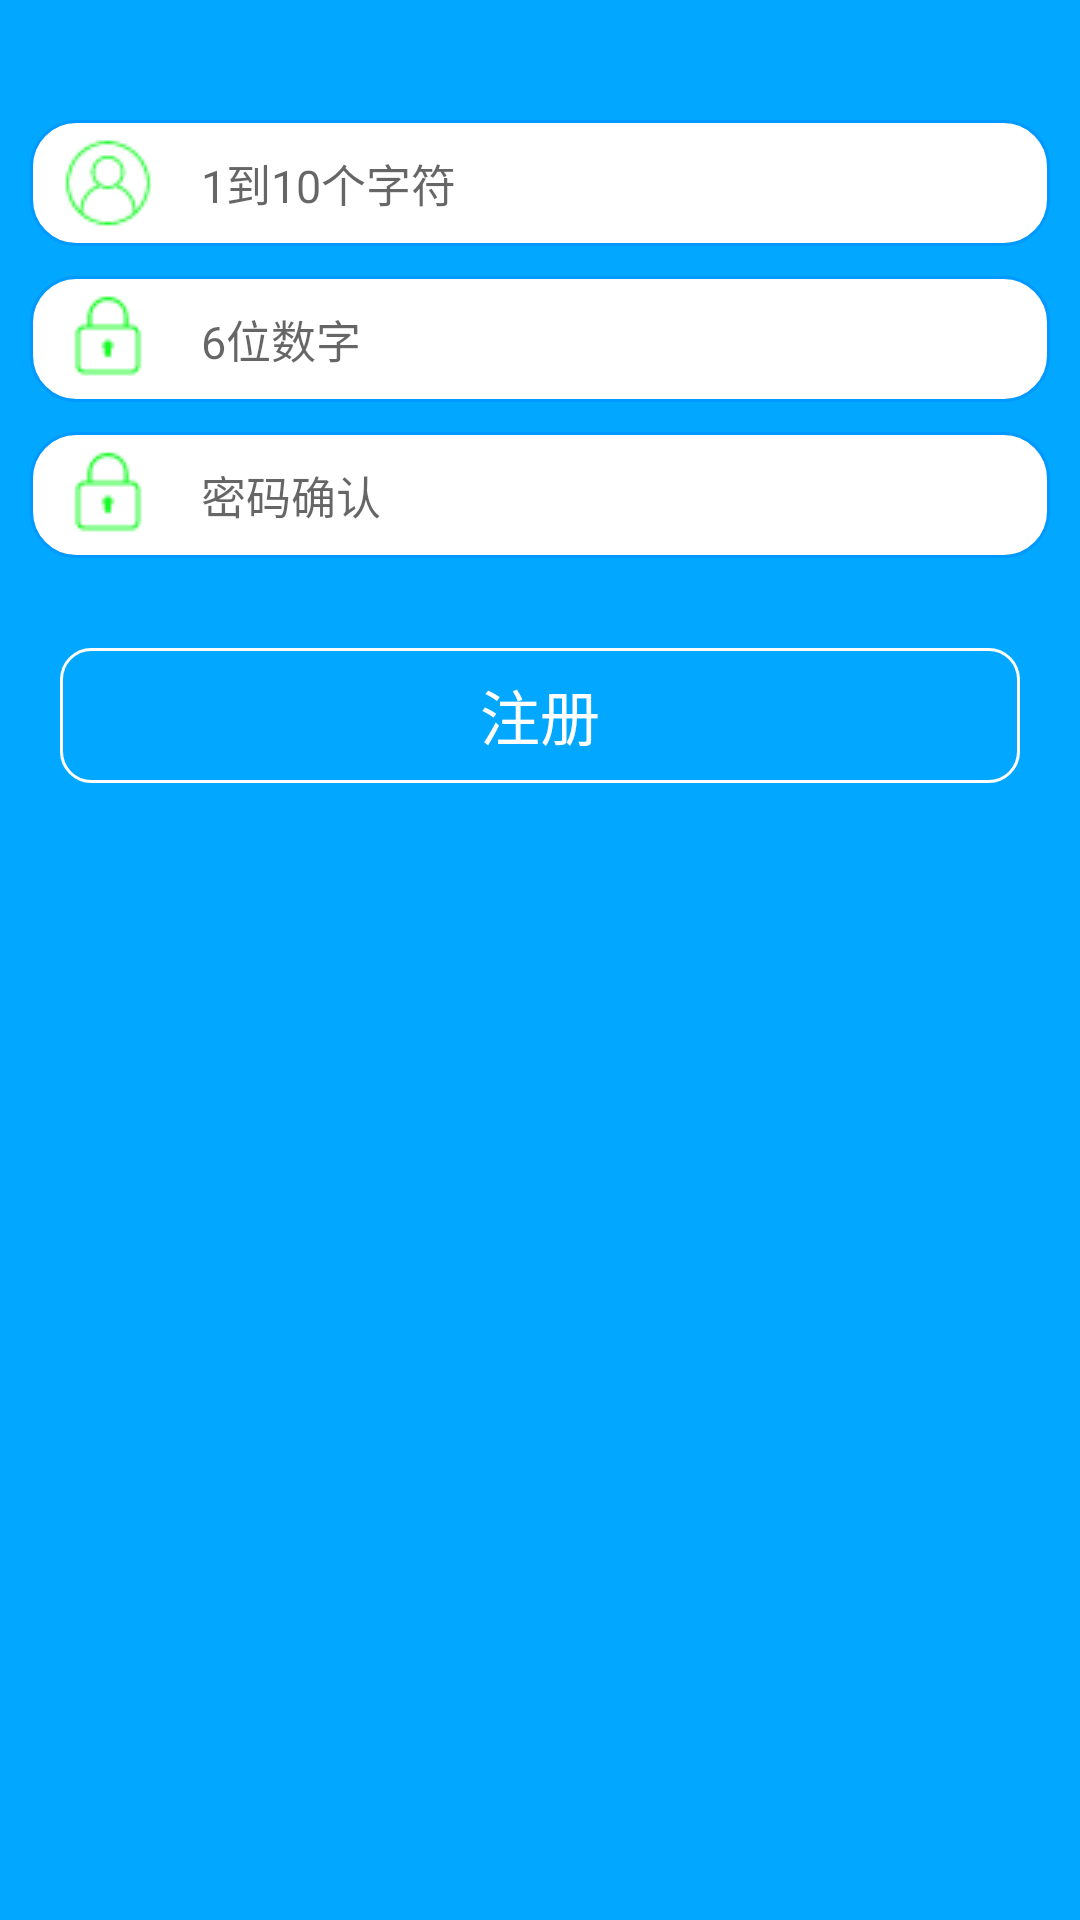

Locate icon controls on the screen. Image size 1080*1920, boxes as rect(x1, y1, x2, y2).
login head: rect(65, 140, 151, 226)
login pass: rect(74, 296, 142, 376), rect(74, 452, 142, 532)
